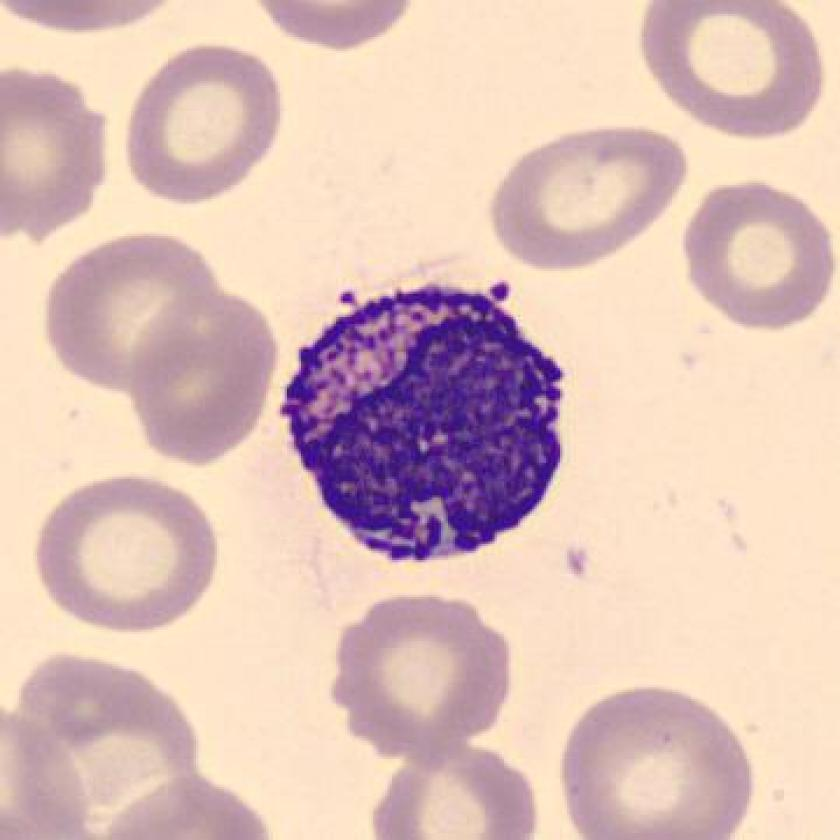basophil: (281, 270, 573, 578)
